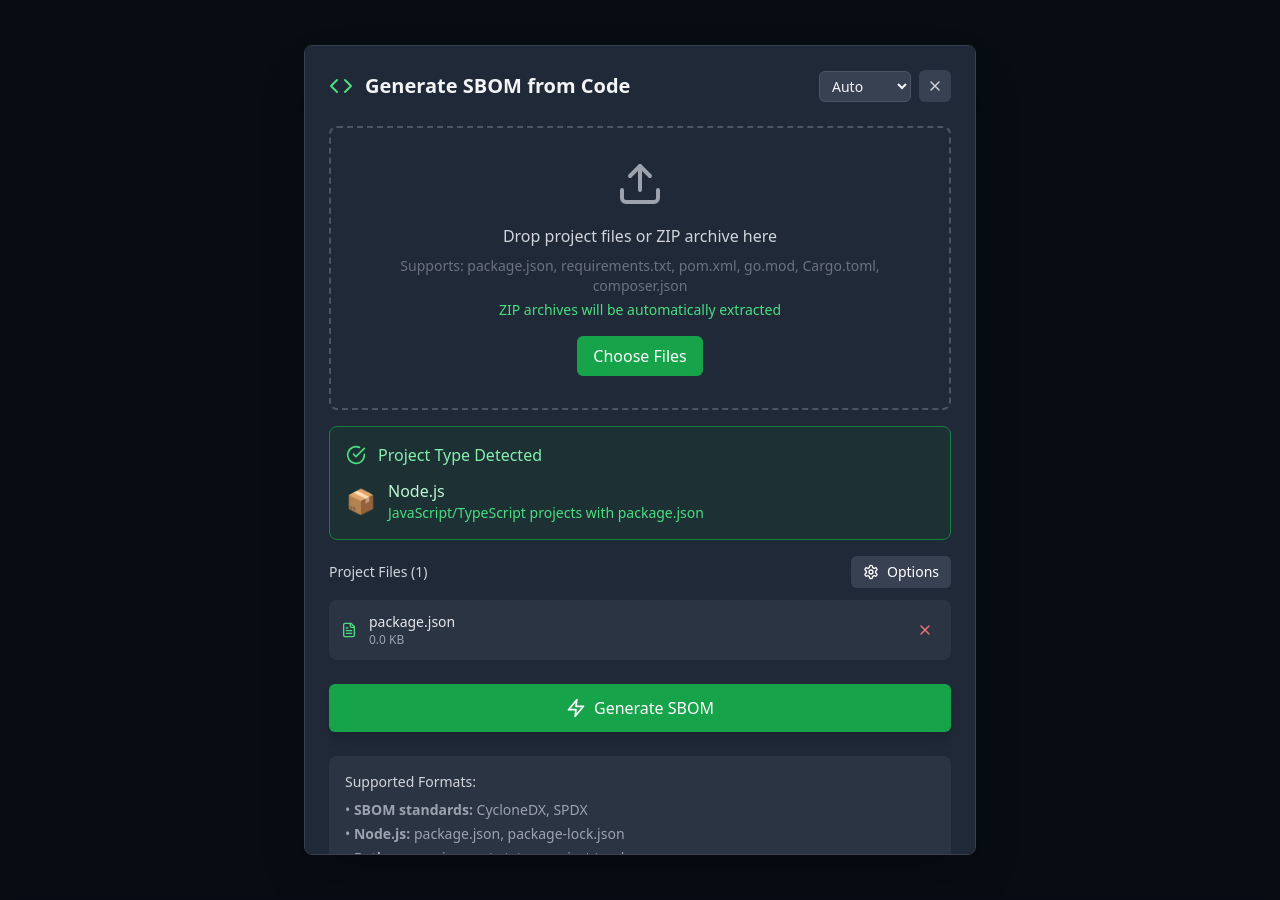
Test: CodeUploader › should display success message and auto-close after SBOM generation
Earlier steps of the test are not shown.
Click the button "Generate SBOM". click: (640, 708)
box: [329, 684, 951, 732]
Wait 1500 ms
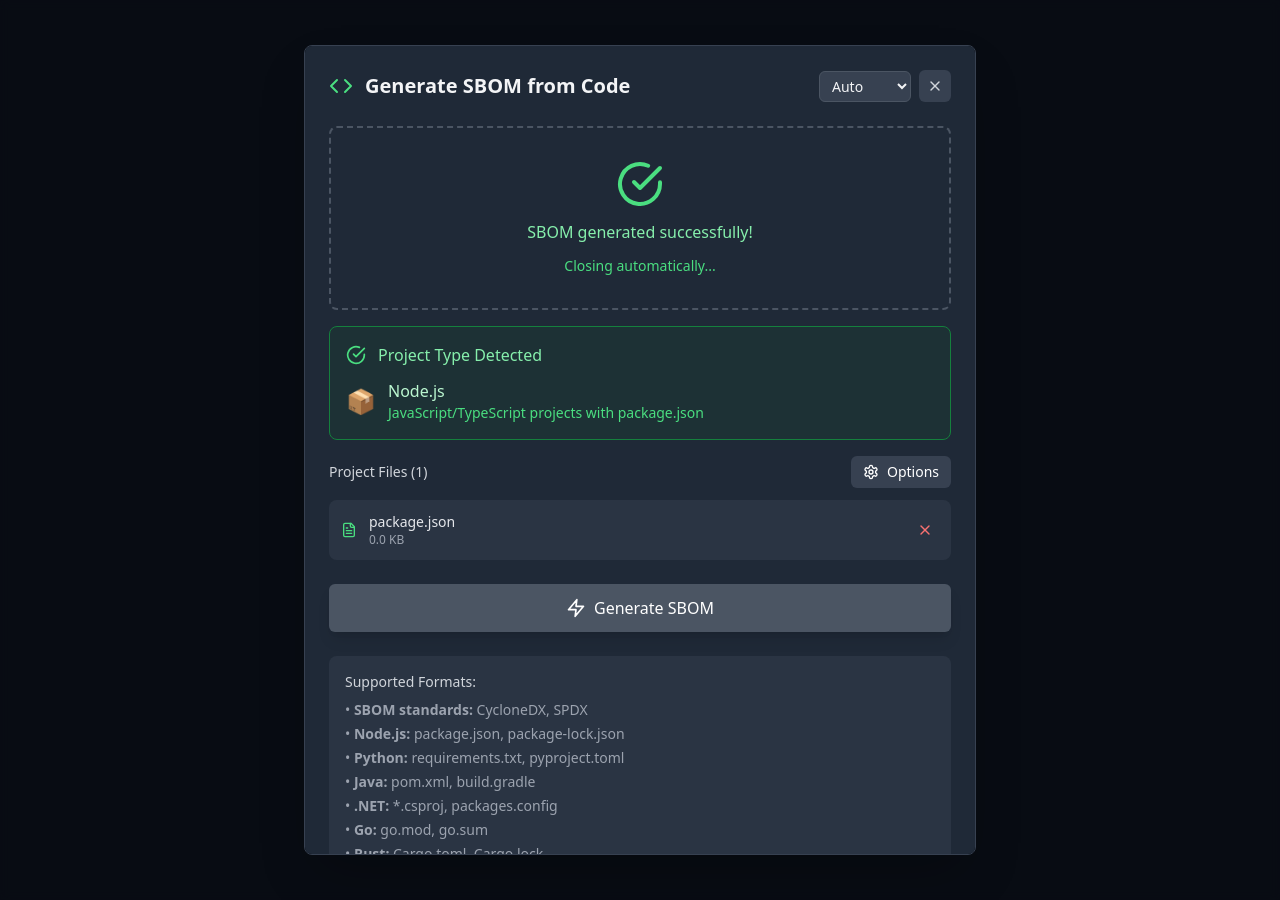
Check: the text "SBOM generated successfully!" is shown, box [527, 220, 753, 244]
